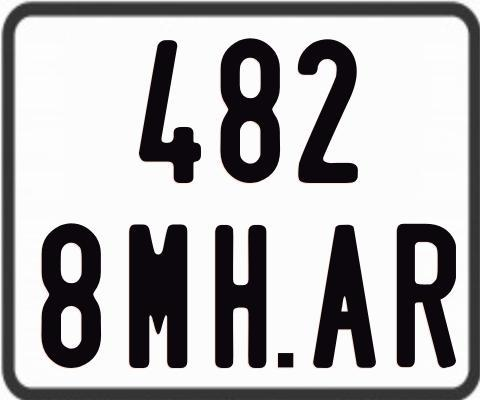2: (298, 36, 364, 185)
4: (137, 38, 199, 182)
8: (40, 223, 105, 371), (219, 36, 283, 184)
A: (313, 225, 378, 368)
H: (213, 224, 264, 371)
M: (129, 224, 192, 368)
R: (394, 223, 453, 373)
